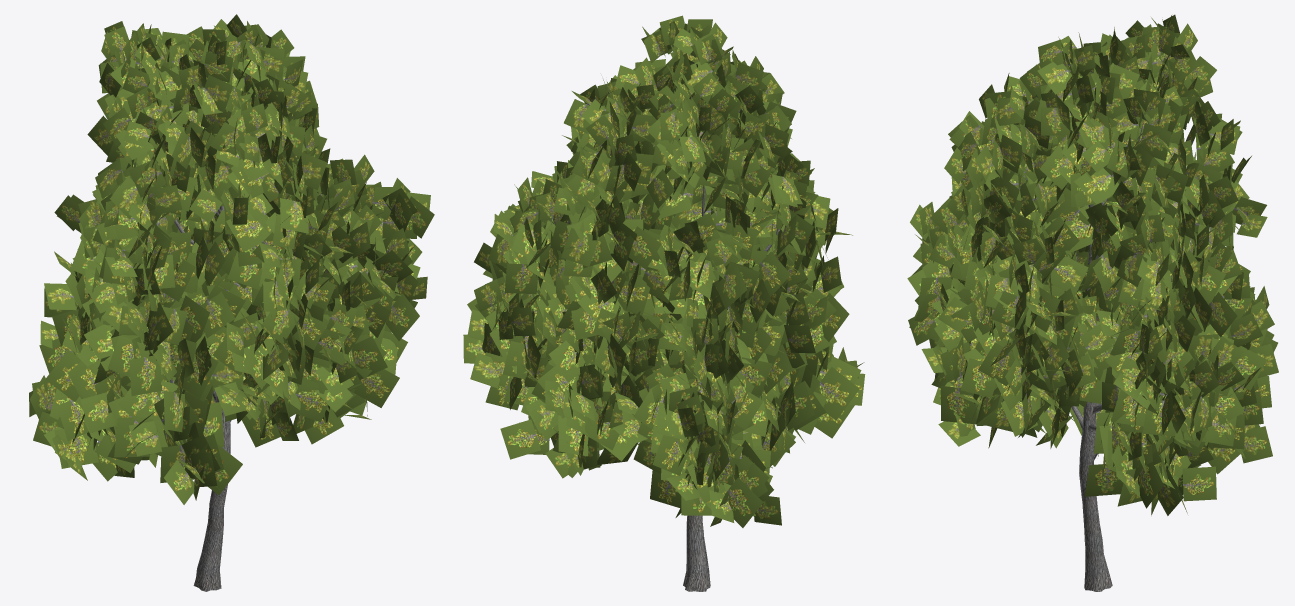
Rendered from European_Linden.glb.
The picture shows the model from 3 angles, left to right: view 1: azimuth 30°, elevation 25°; view 2: azimuth 150°, elevation 25°; view 3: azimuth 270°, elevation 25°; orthographic projection.
Visible parts, largest first — view 1: EuropeanLinden_Hero_26; view 2: EuropeanLinden_Hero_26; view 3: EuropeanLinden_Hero_26.
Part boxes in pixels (x1,y1,x2,y2): EuropeanLinden_Hero_26: (29, 14, 434, 591); EuropeanLinden_Hero_26: (463, 15, 865, 591); EuropeanLinden_Hero_26: (907, 14, 1278, 591).
Bounding box in the file's own units: 1.99 × 3.15 × 1.9.
4 materials, 4 textured.
